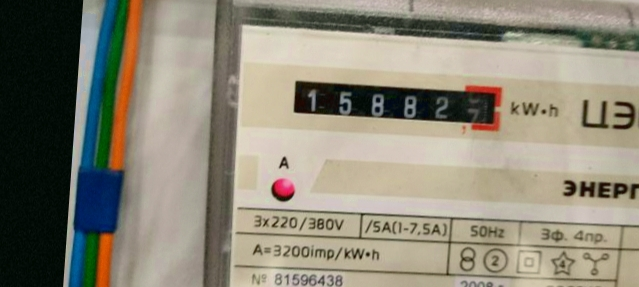1: (305, 83, 320, 113)
2: (432, 93, 451, 120)
5: (336, 87, 355, 118)
7: (465, 104, 479, 122)
8: (368, 89, 386, 118), (401, 91, 419, 120)
screen: (280, 62, 510, 139)
